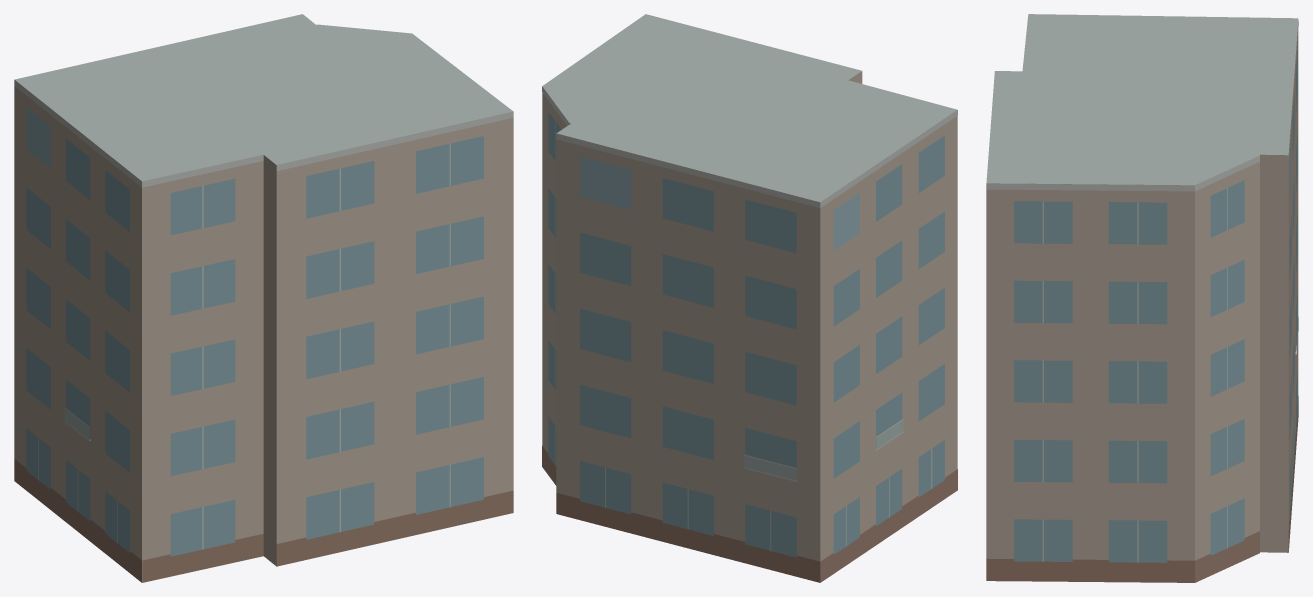
Rendered from survey-upis-32839503.glb.
3 views of the same model, side by side, from view 1: azimuth 30°, elevation 25°; view 2: azimuth 150°, elevation 25°; view 3: azimuth 270°, elevation 25° (orthographic). The views are drawn at different scales.
Parts seen in each view (by area): view 1: survey-upis-32839503.tmp; view 2: survey-upis-32839503.tmp; view 3: survey-upis-32839503.tmp.
Part boxes in pixels (<box>): survey-upis-32839503.tmp: <box>14,14,513,582</box>; survey-upis-32839503.tmp: <box>542,14,957,582</box>; survey-upis-32839503.tmp: <box>986,14,1298,582</box>.
Size of the model in its own units: 14.6 by 15.8 by 11.25.
